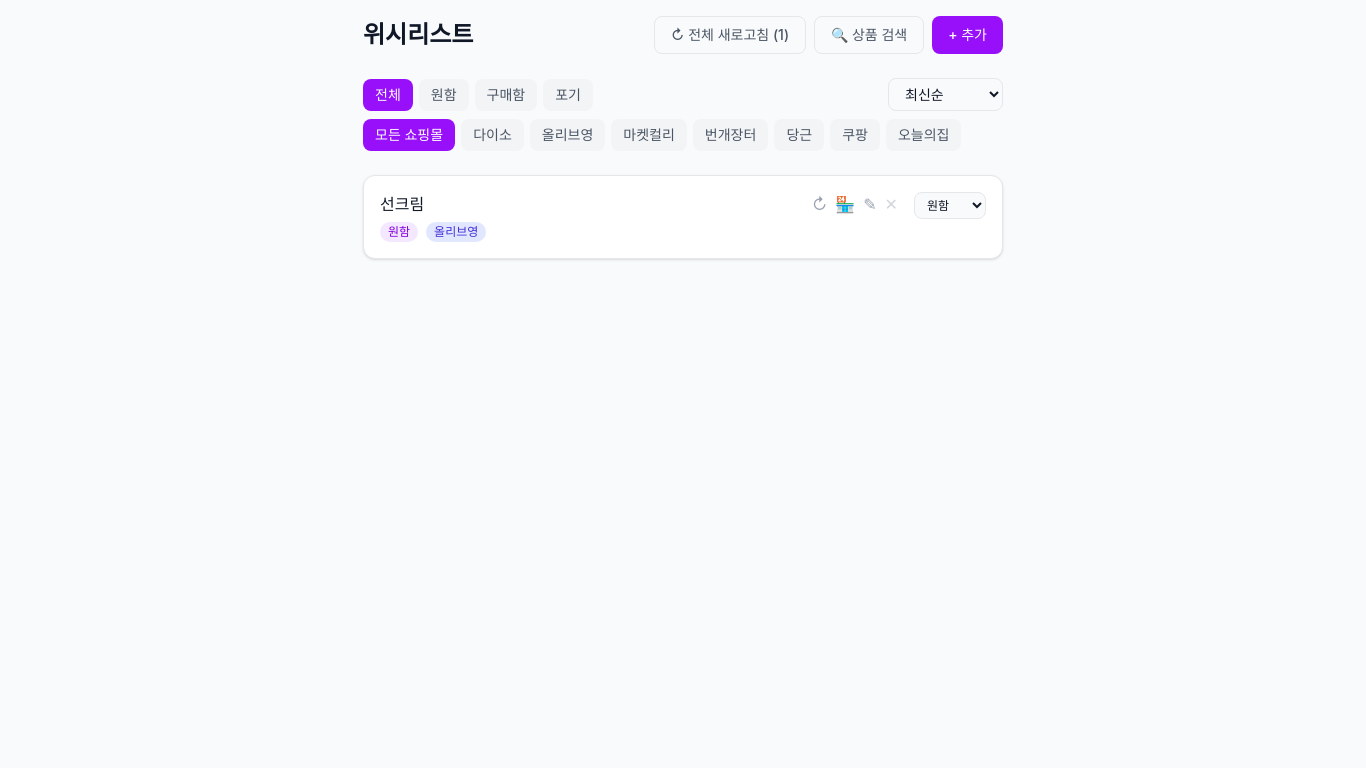
Scenario: WishlistPage › 올리브영에서 담은 항목의 재고 확인 모달에는 올리브영 탭만 나온다
Click the button named "매장 재고 확인" at (845, 204), box [831, 192, 859, 216]
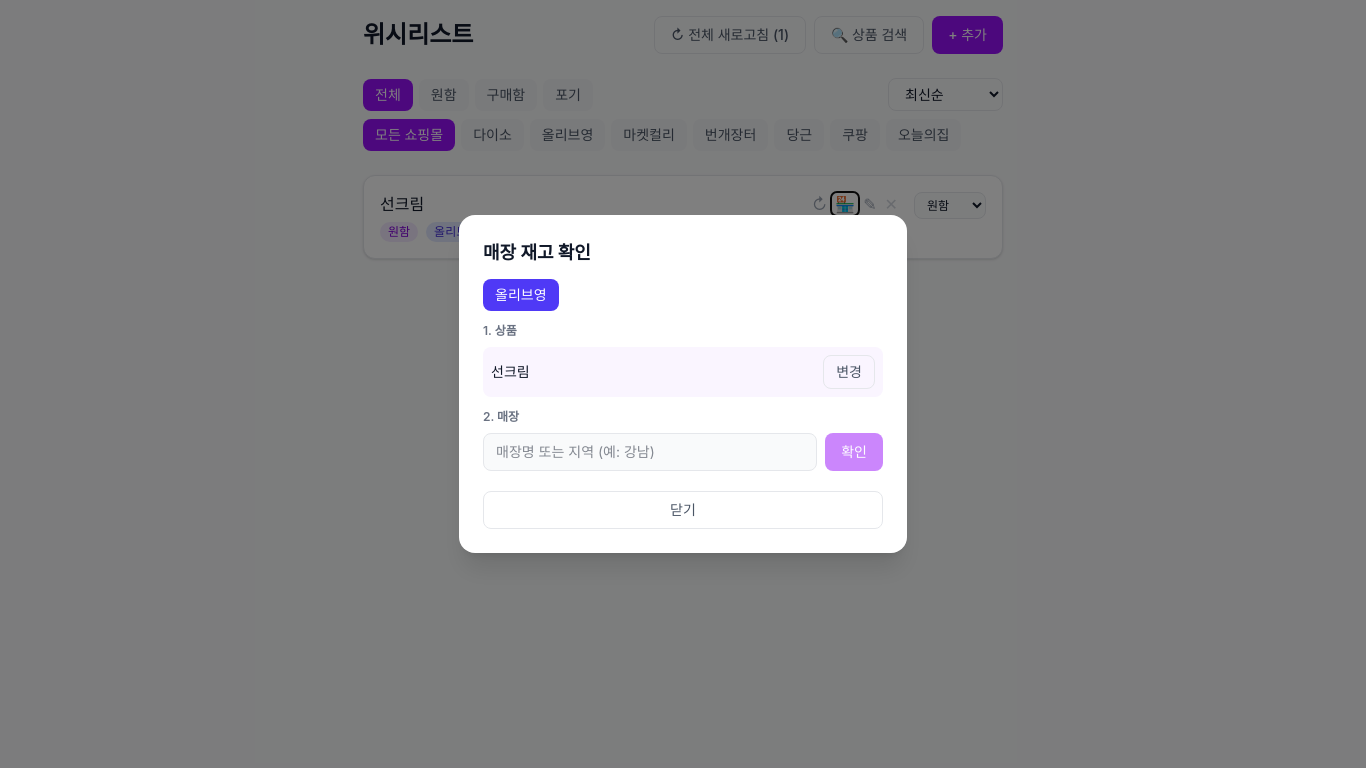
Now the text named "조회 쇼핑몰" reads "올리브영", box [495, 286, 546, 303]
Now the field named "매장 검색어" is shown, box [483, 433, 817, 471]
